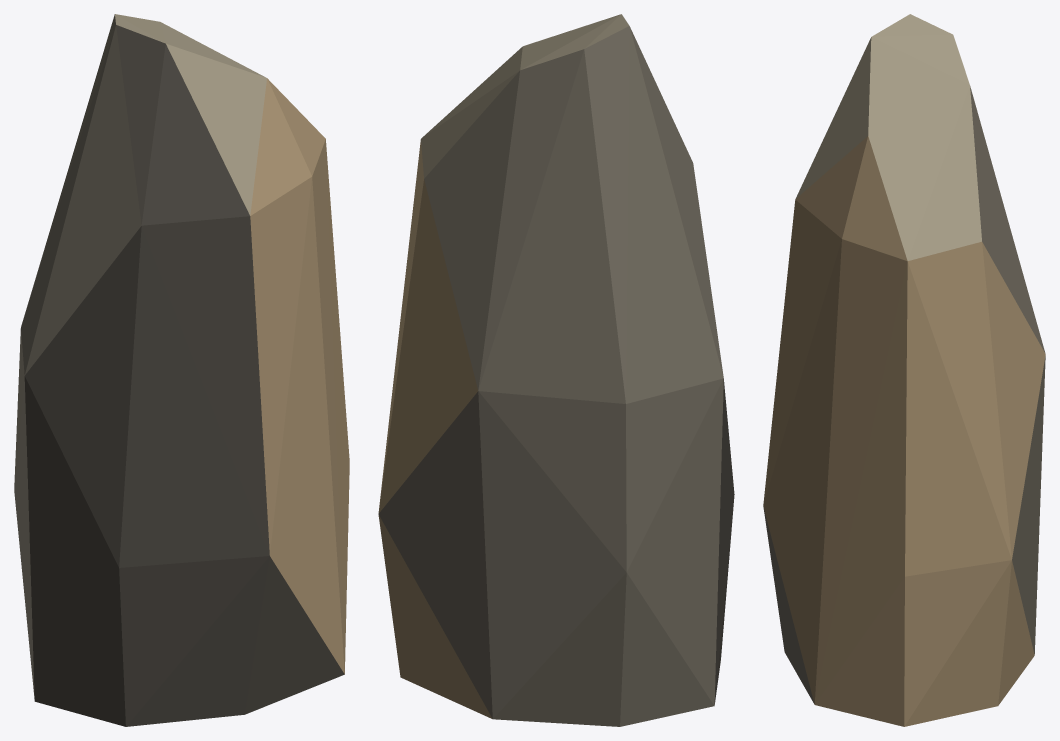
File: TW_ROCK_UPRIGHT_A_LOD1.glb
3 renders of one model, left to right at view 1: azimuth 30°, elevation 25°; view 2: azimuth 150°, elevation 25°; view 3: azimuth 270°, elevation 25°, orthographic. The views are drawn at different scales.
Parts seen in each view (by area): view 1: TW_ROCK_UPRIGHT_A_LOD1; view 2: TW_ROCK_UPRIGHT_A_LOD1; view 3: TW_ROCK_UPRIGHT_A_LOD1.
Boxes of the visible parts, x1,y1,x2,y2 form: TW_ROCK_UPRIGHT_A_LOD1: (14, 14, 349, 726); TW_ROCK_UPRIGHT_A_LOD1: (378, 14, 734, 726); TW_ROCK_UPRIGHT_A_LOD1: (763, 14, 1045, 726).
Size of the model in its own units: 0.8 by 1.55 by 0.65.
Materials: 1 (1 with a texture image).
